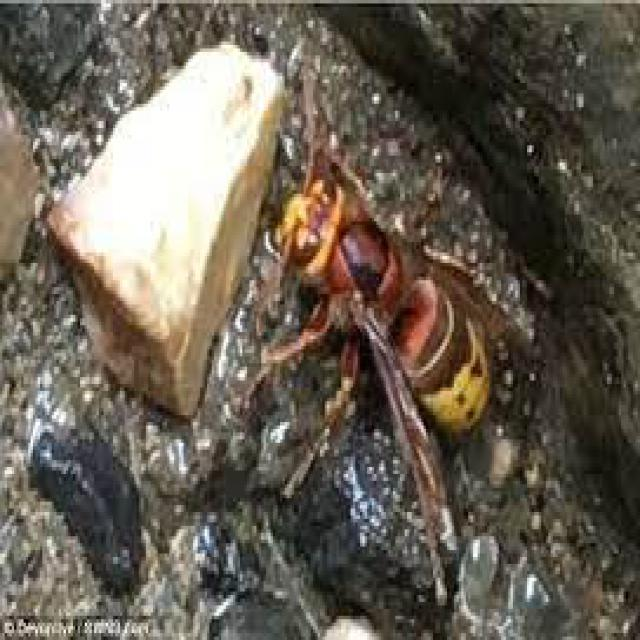Vespa Crabro: (261, 136, 499, 588)
